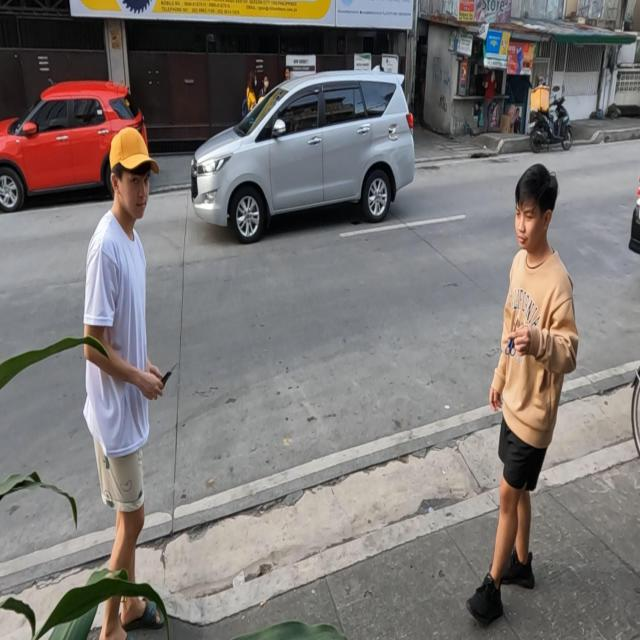scissor: (504, 318, 517, 358)
